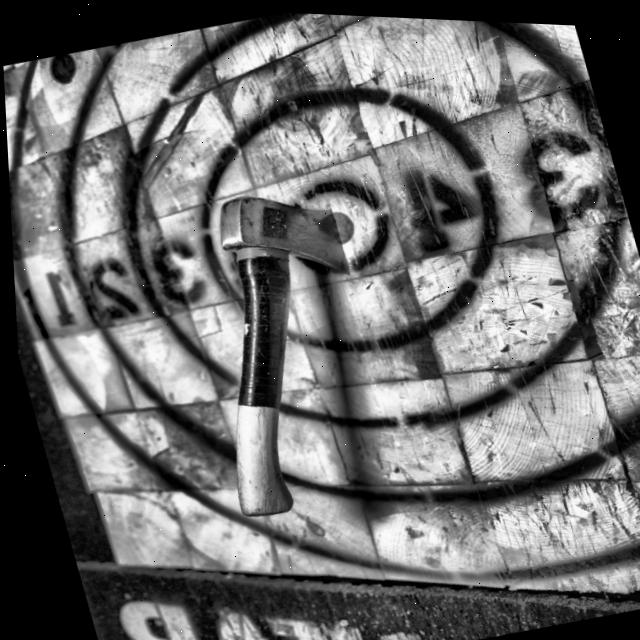kapak: (133, 148, 439, 542)
